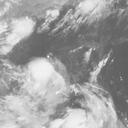cyclone: (26, 55, 55, 88)
